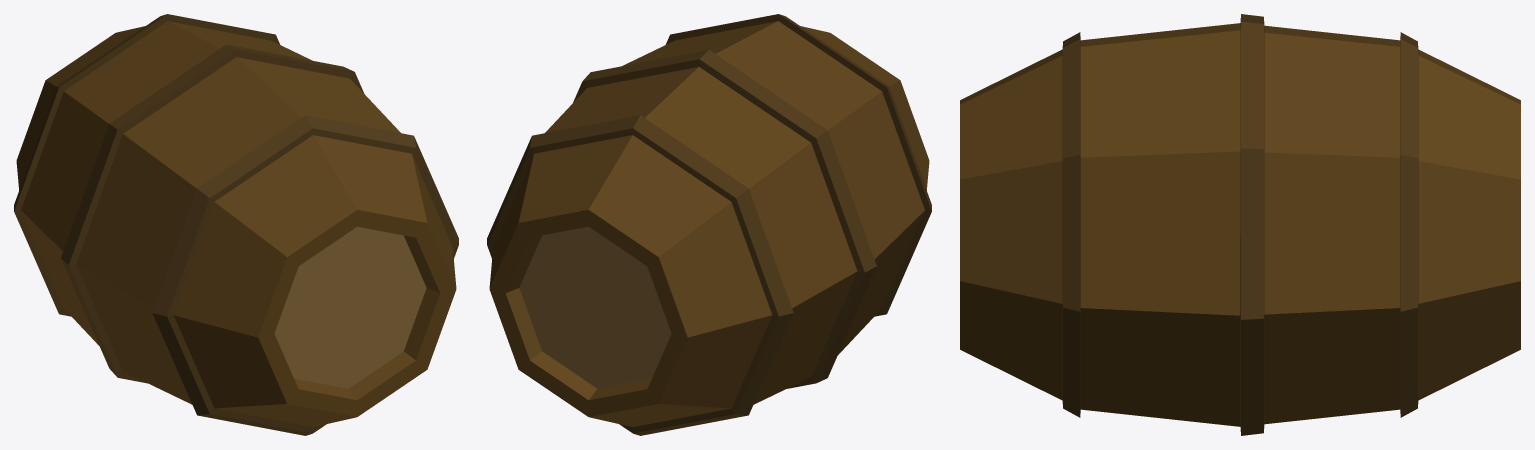
The model's file is Barrel_Mod.fbx.
3 renders of one model, left to right at view 1: azimuth 30°, elevation 25°; view 2: azimuth 150°, elevation 25°; view 3: azimuth 270°, elevation 25°, orthographic. The views are drawn at different scales.
Visible parts, largest first — view 1: Barrel; view 2: Barrel; view 3: Barrel.
Boxes of the visible parts, x1,y1,x2,y2 form: Barrel: (14,14,458,435); Barrel: (487,14,931,435); Barrel: (960,14,1520,435).
Bounding box in the file's own units: 3.38 × 3.38 × 4.22.
